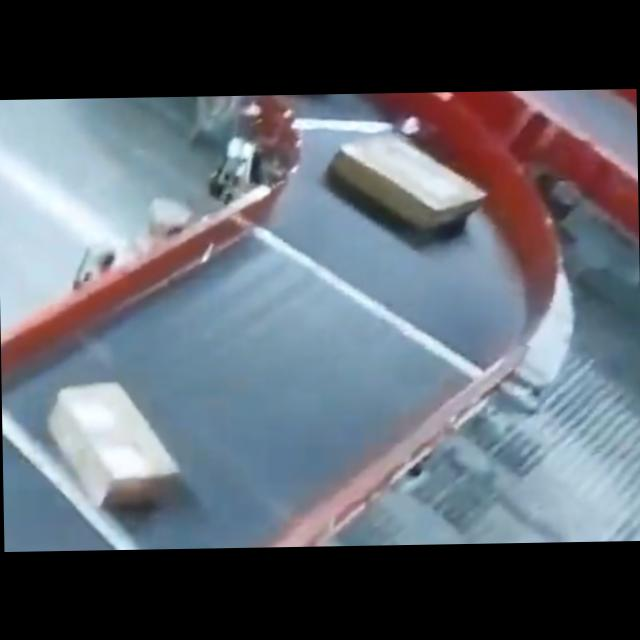box: (46, 381, 176, 514), (326, 130, 486, 232)
